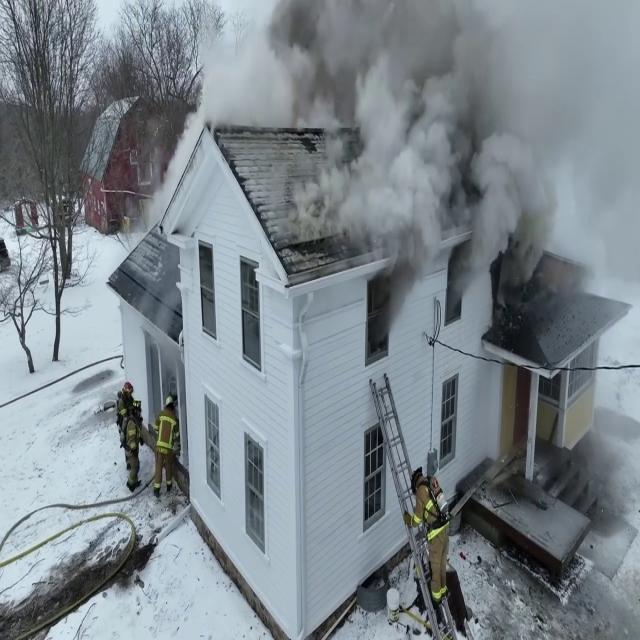Smoke: (252, 0, 625, 301)
